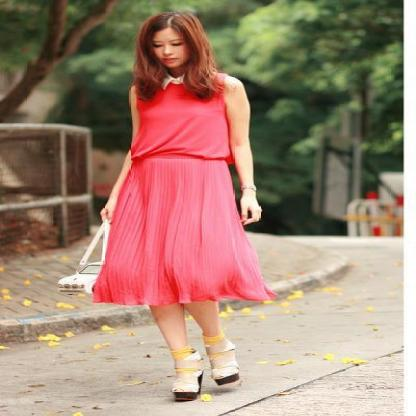bag: (62, 258, 100, 290)
dress: (92, 82, 274, 304)
shoe: (167, 353, 240, 401)
